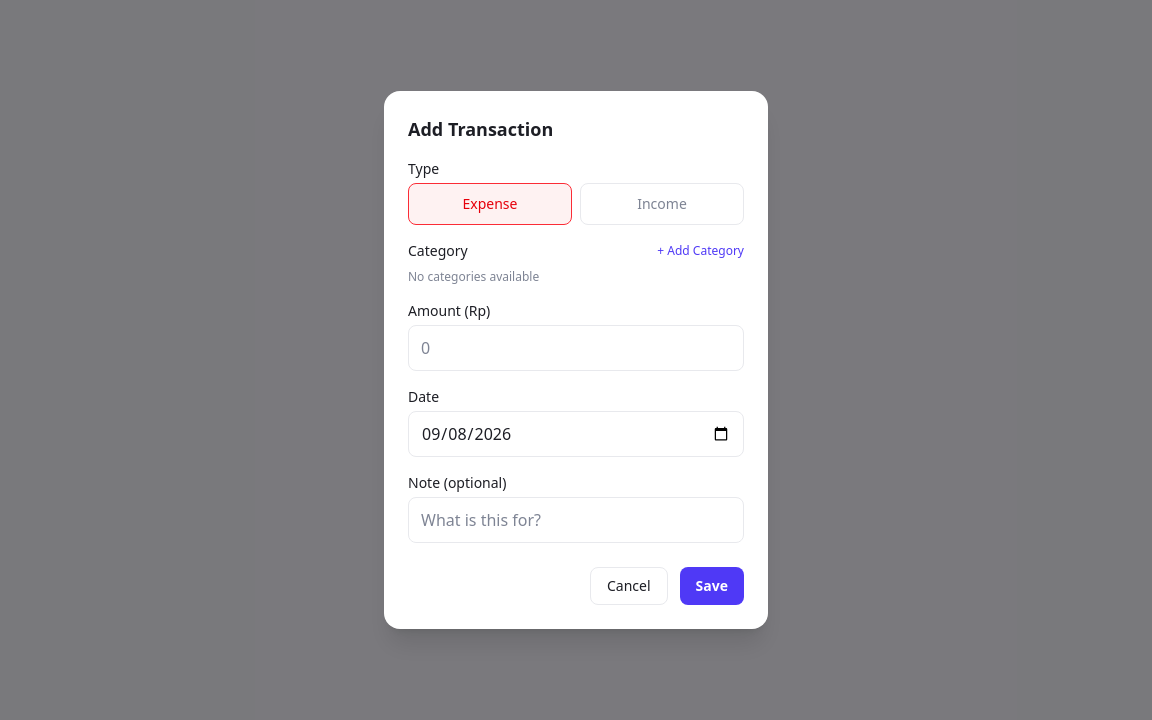
Scenario: AddTransactionModal - Type switching › switching back to expense hides fix income
Click the button "Income".
click(662, 204)  # box top-left (580, 183), bottom-right (744, 225)
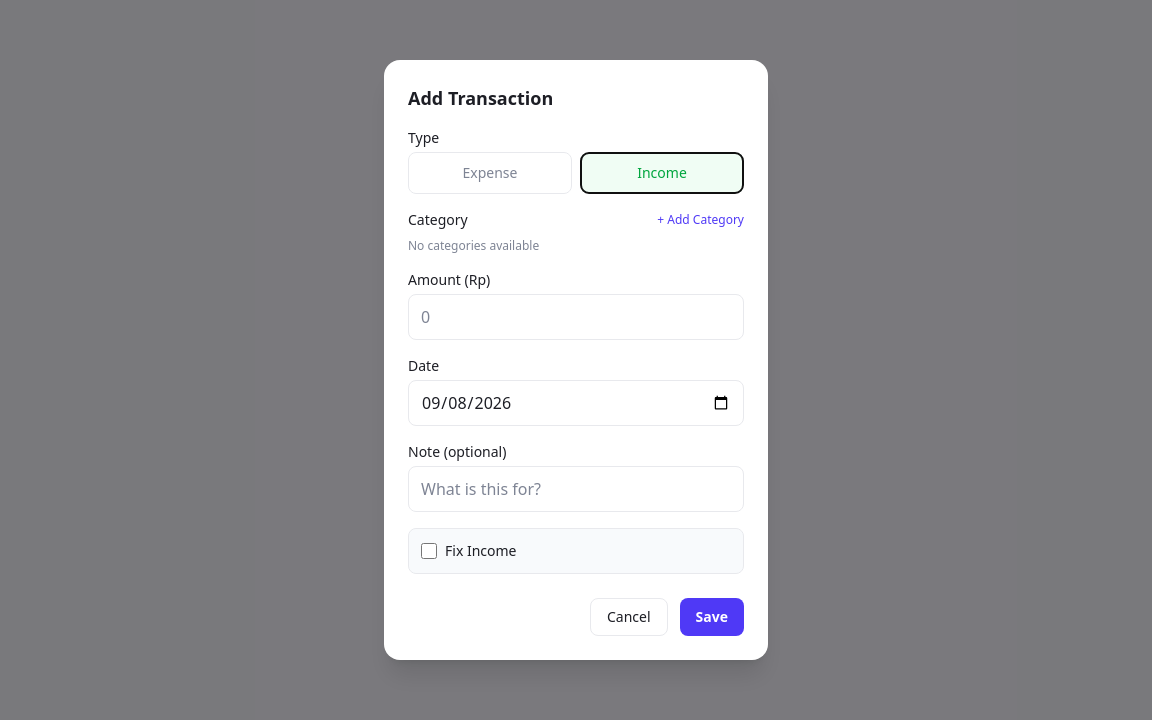
Expected: the text "Fix Income" is shown, top-left (445, 541), bottom-right (516, 561)
Click the button "Expense".
click(490, 173)  # box top-left (408, 152), bottom-right (572, 194)
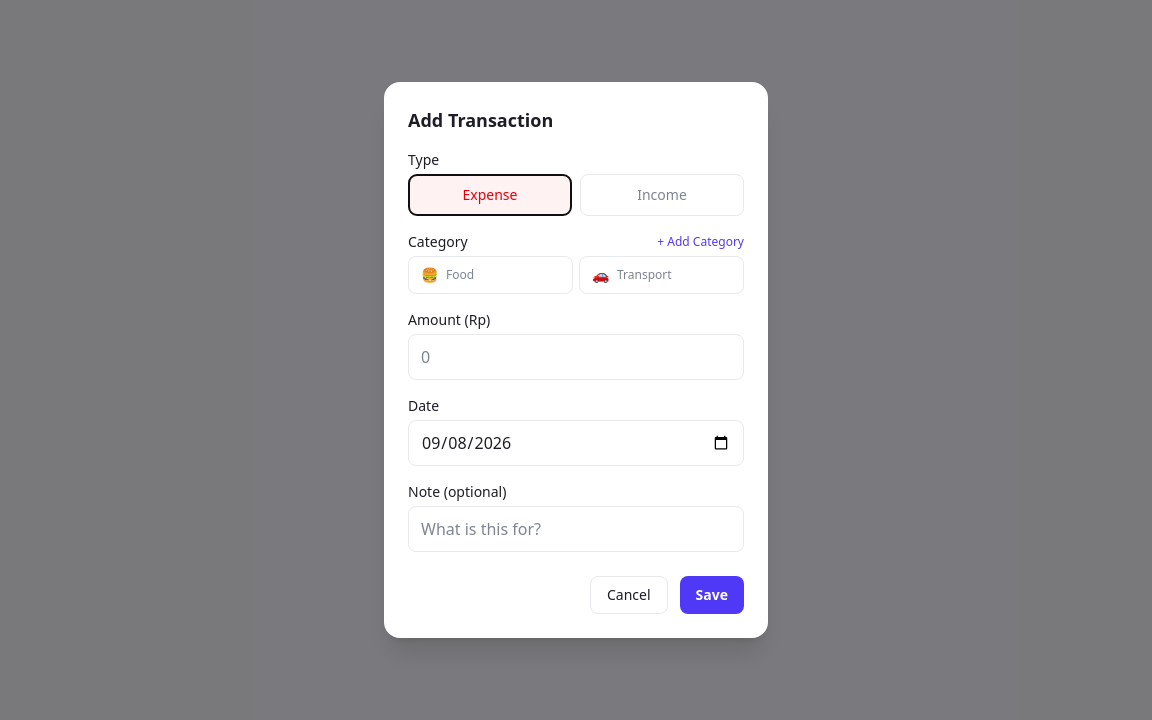
Expected: the text "Fix Income" is gone
